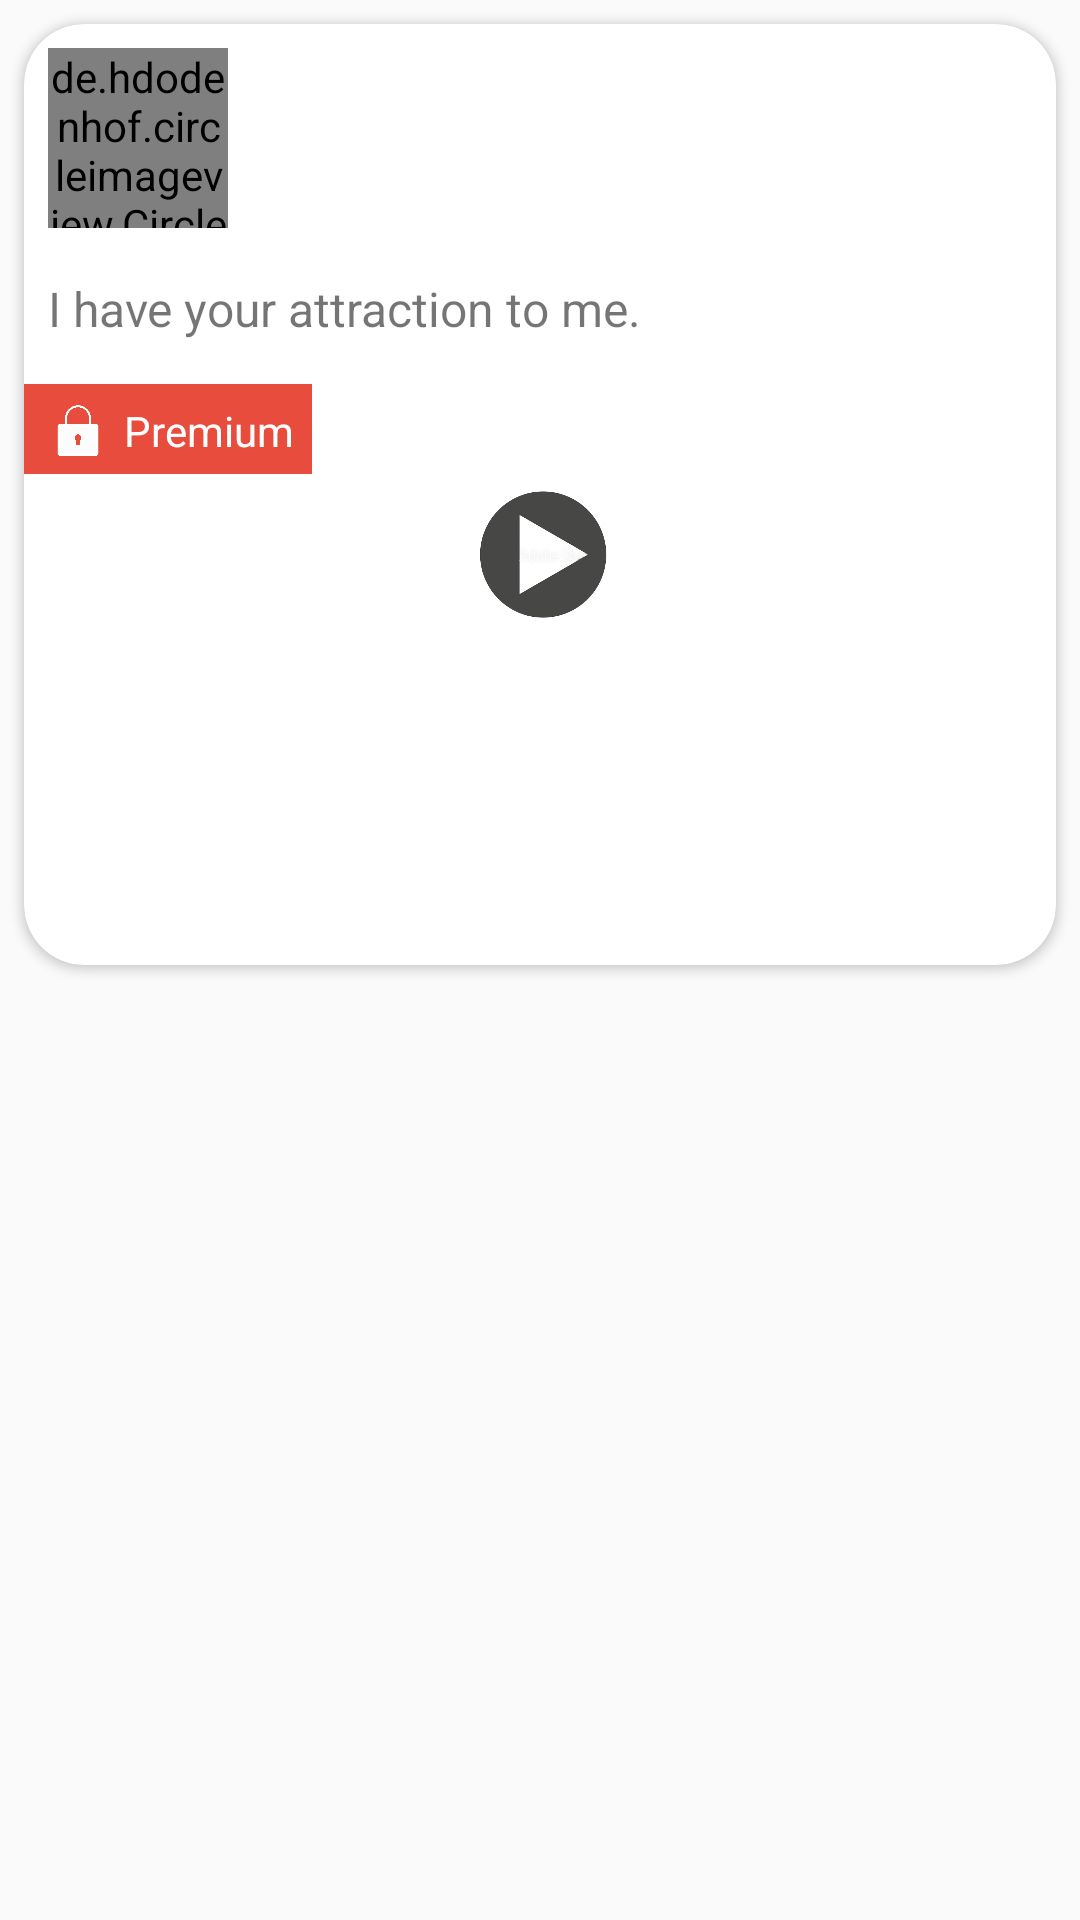

Where icons sit on this 1080*1920 app screen, as {"x1": x1, "y1": y1, "x2": x2, "y2": y2}:
play: {"x1": 480, "y1": 491, "x2": 606, "y2": 618}
whitelock: {"x1": 57, "y1": 405, "x2": 99, "y2": 456}
